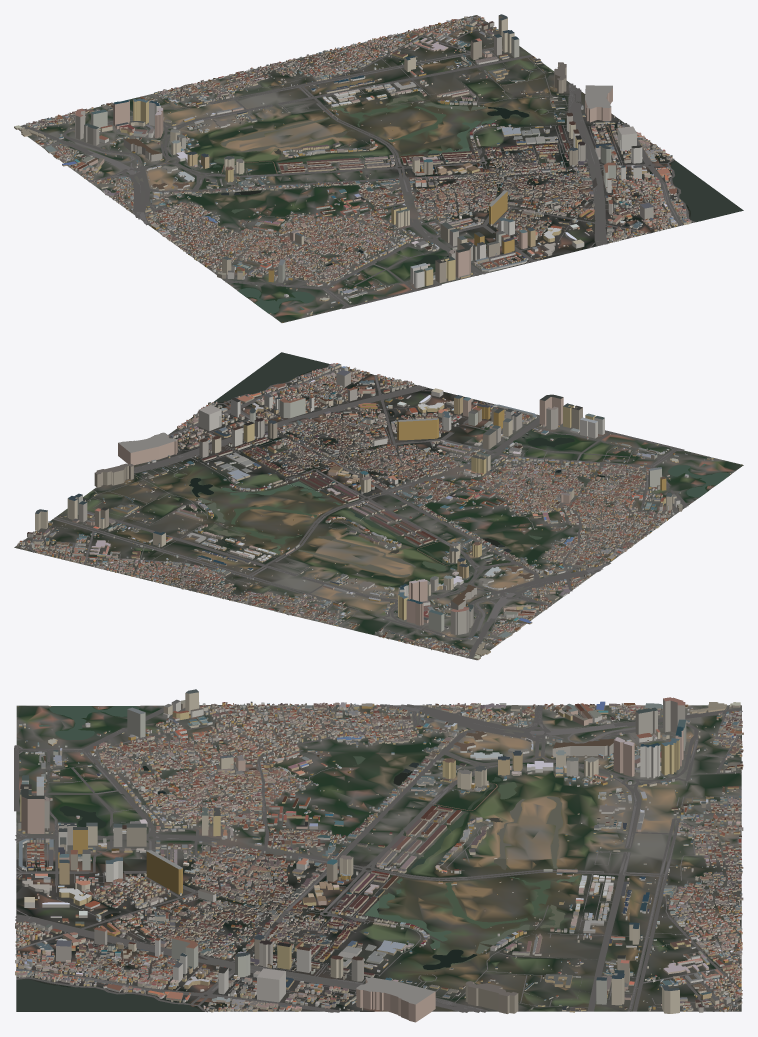
The picture shows the model from 3 angles, top to bottom: view 1: azimuth 30°, elevation 25°; view 2: azimuth 150°, elevation 25°; view 3: azimuth 270°, elevation 25°; orthographic projection. The views are drawn at different scales.
Visible parts, largest first — view 1: ground, buildings, roads, water; view 2: ground, buildings, roads, water; view 3: ground, buildings, roads, water.
Boxes of the visible parts, bbox=[...] form: ground: bbox=[18, 15, 743, 322]; buildings: bbox=[14, 14, 691, 322]; roads: bbox=[19, 19, 695, 308]; water: bbox=[191, 95, 743, 313]; ground: bbox=[14, 359, 743, 660]; buildings: bbox=[16, 363, 742, 660]; roads: bbox=[23, 364, 688, 658]; water: bbox=[189, 352, 729, 578]; ground: bbox=[16, 705, 741, 1011]; buildings: bbox=[15, 689, 743, 1022]; roads: bbox=[14, 704, 742, 1012]; water: bbox=[16, 706, 615, 1011].
Bounding box in the file's own units: 2918 × 154 × 2822.
